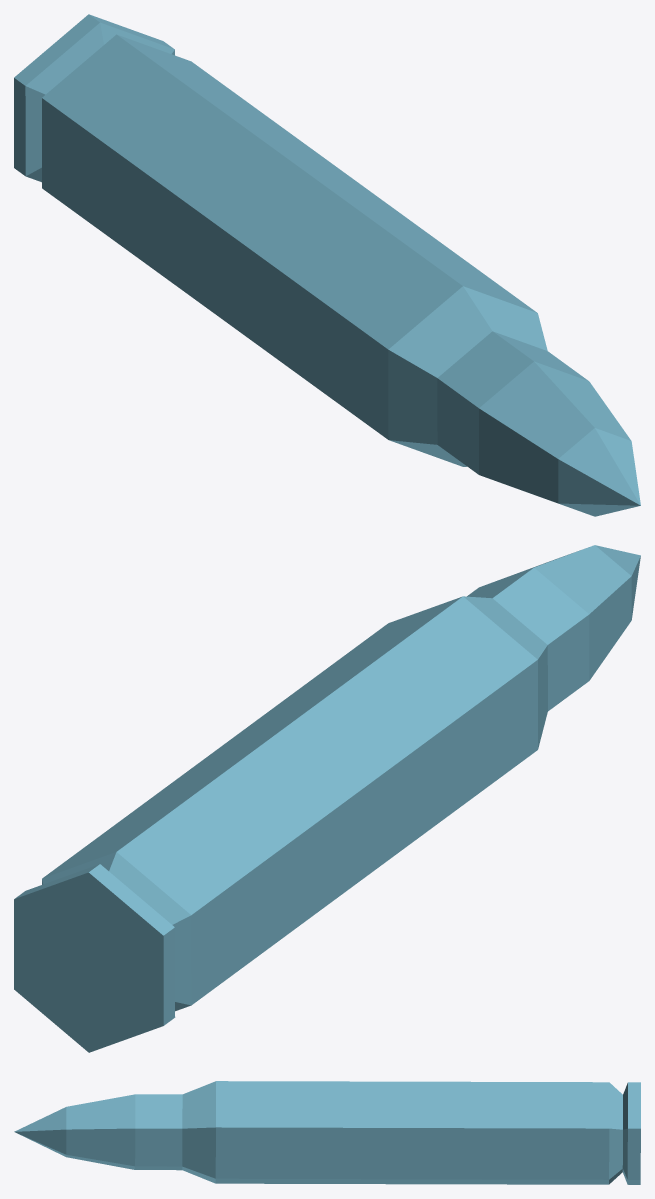
Rendered from Bullet_Revolver.fbx.
3 views of the same model, one above another, from view 1: azimuth 30°, elevation 25°; view 2: azimuth 150°, elevation 25°; view 3: azimuth 270°, elevation 25° (orthographic). The views are drawn at different scales.
Visible parts, largest first — view 1: Bullet_Revolver; view 2: Bullet_Revolver; view 3: Bullet_Revolver.
Part boxes in pixels (left/top/right/bottom): Bullet_Revolver: left=14, top=14, right=640, bottom=516; Bullet_Revolver: left=14, top=545, right=640, bottom=1052; Bullet_Revolver: left=14, top=1081, right=640, bottom=1184.
Bounding box in the file's own units: 1.76 × 2.06 × 11.27.
